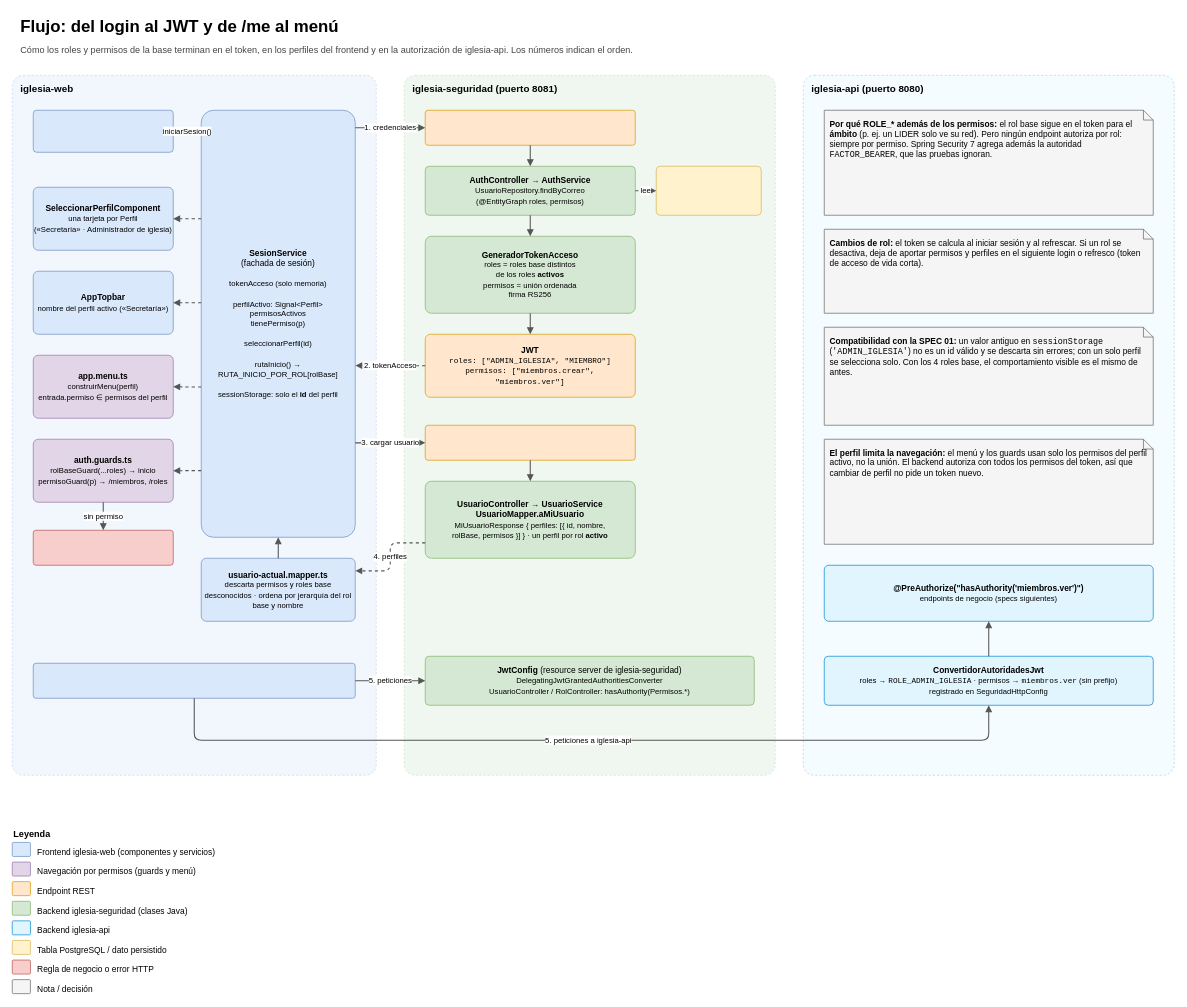
The diagram is 1187 pixels wide and 1007 high, and some of its shapes have lost their labels. The shapes that lost their labels are listed below. From the top down, each one's centre as x and y in pixels, then its label:
[103,131]: LoginComponent
[530,127]: POST /api/auth/login
[708,190]: usuario usuario_rol rol · rol_permiso
[530,442]: GET /api/usuarios/me
[103,547]: /auth/acceso-denegado
[194,680]: auth.interceptor Authorization: Bearer <JWT> en cada petición
